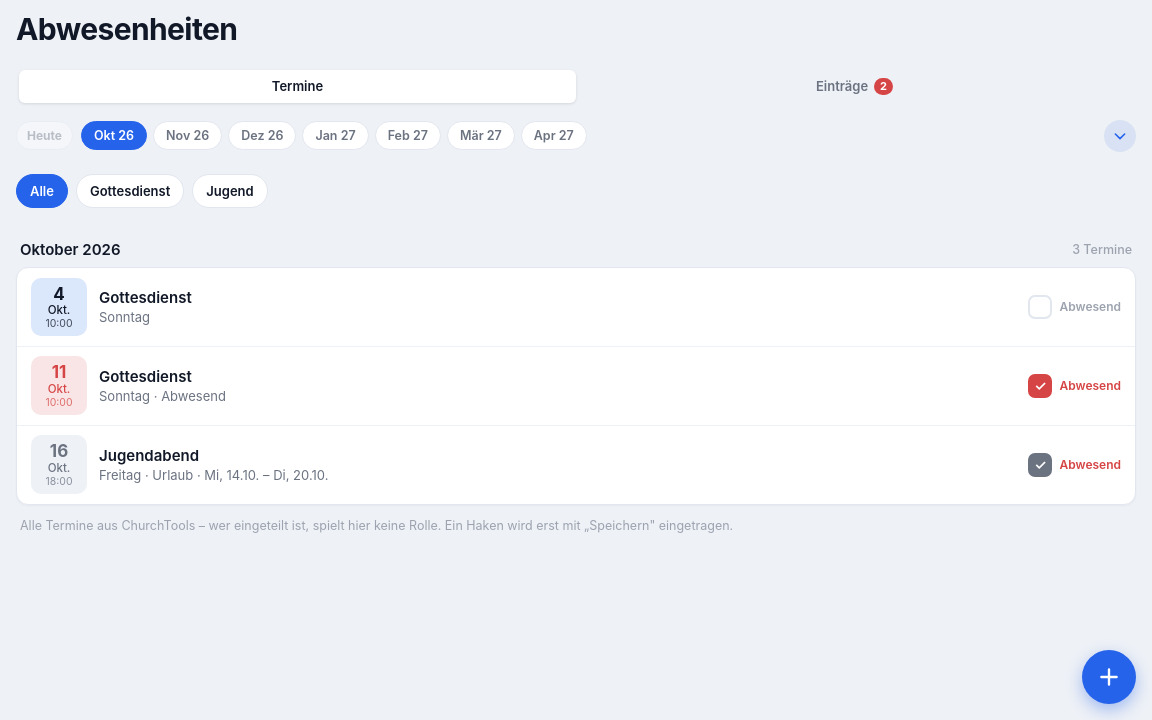
Abwesenheiten – ein Termin in einem Zeitraum fragt nach › der Haken sitzt, die Unterzeile nennt den Zeitraum, ein Tipp öffnet die Rückfrage
expect the text "Urlaub · Mi, 14.10. – Di, 20.10." is shown: met, box [141,467,328,483]
Click the button with aria-label "Jugendabend, Fr, 16.10.": (1072, 465) [1022,449,1121,481]
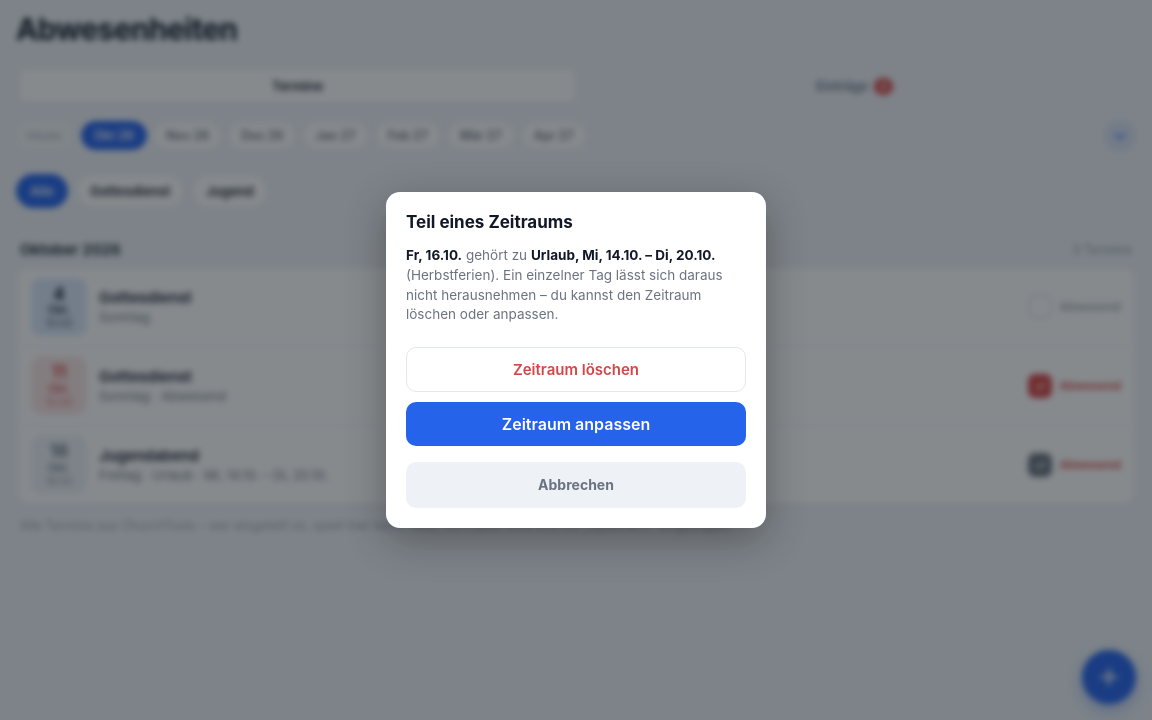
expect the text "Teil eines Zeitraums" is shown: met, box [406,212,573,232]
expect the text "gehört zu" shows "Urlaub, Mi, 14.10. – Di, 20.10.": met, box [406,246,746,325]
